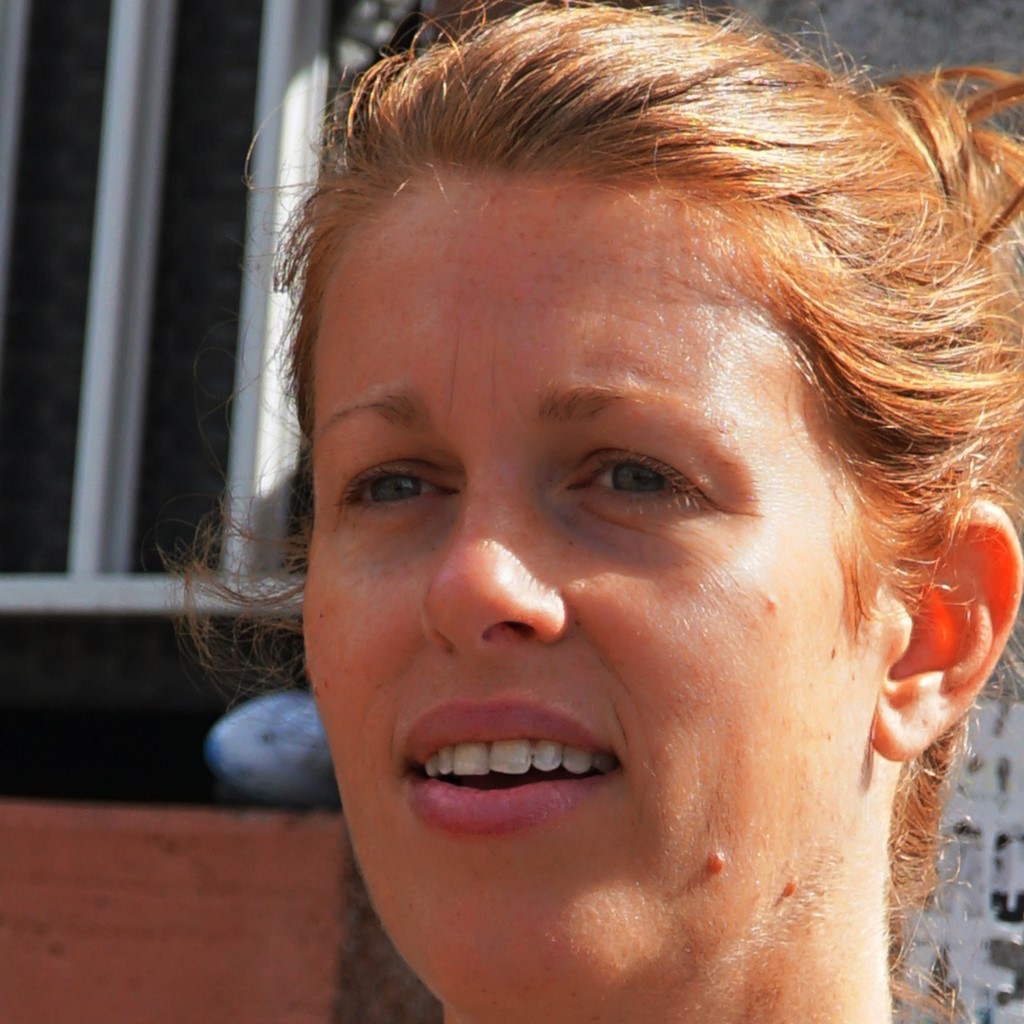sin_mascara: (293, 119, 953, 1002)
